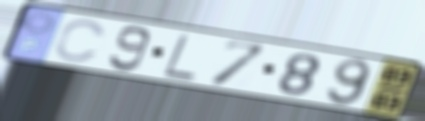7: (208, 38, 270, 89)
8: (277, 53, 323, 96)
9: (324, 57, 377, 107), (108, 26, 153, 72)
C: (52, 18, 109, 64)
L: (160, 32, 198, 83)
